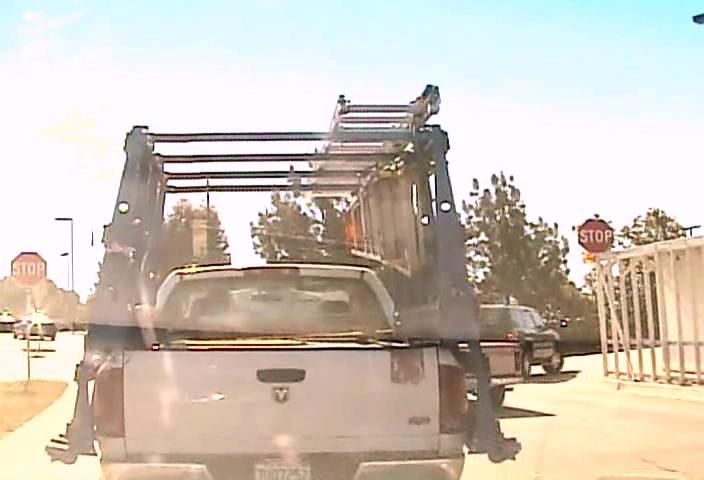stop: (577, 218, 614, 252)
